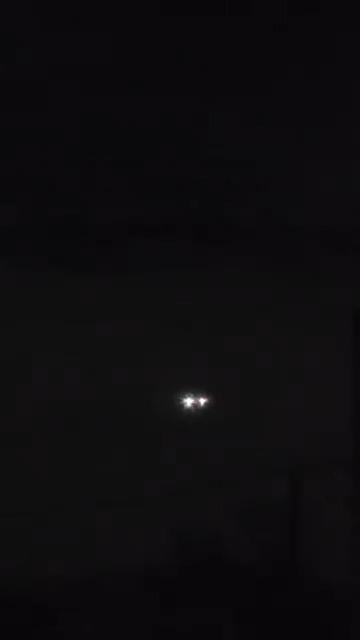Plane: (156, 386, 231, 423)
